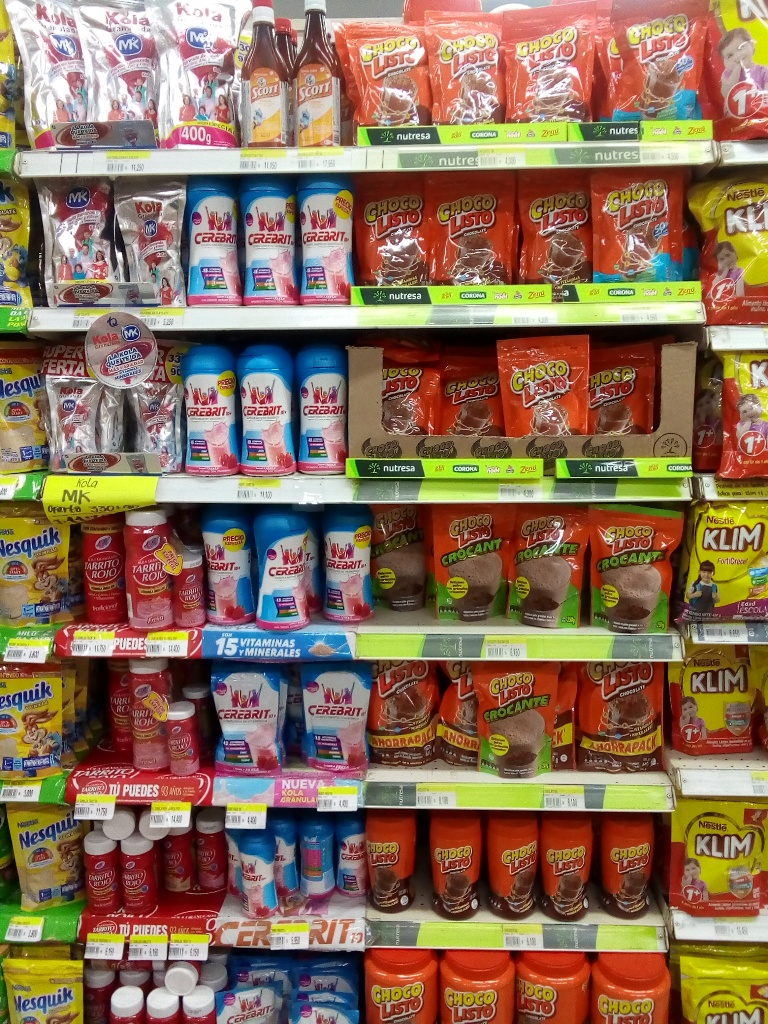COL0170103DYP44000: (363, 650, 434, 770)
COL0170103TRR00100: (364, 946, 435, 1020)
COL0170104DYP20000: (608, 2, 714, 131)
COL0170306DYP20000: (0, 503, 73, 627)
